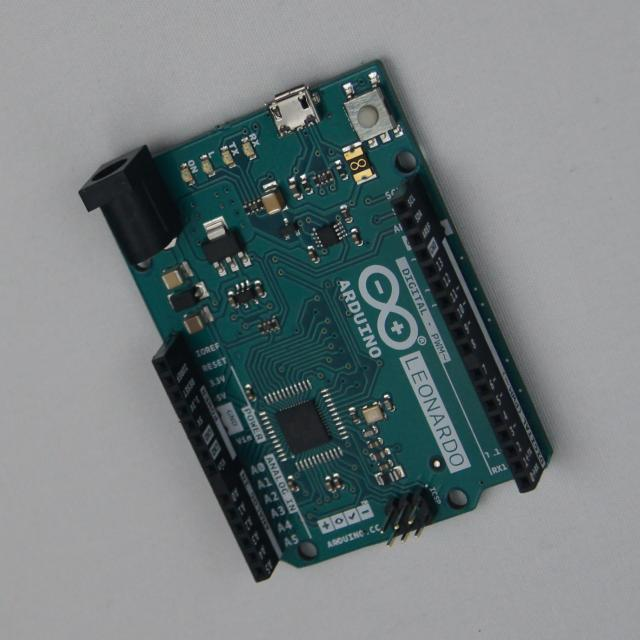Arduino-leonardo: (81, 61, 552, 582)
